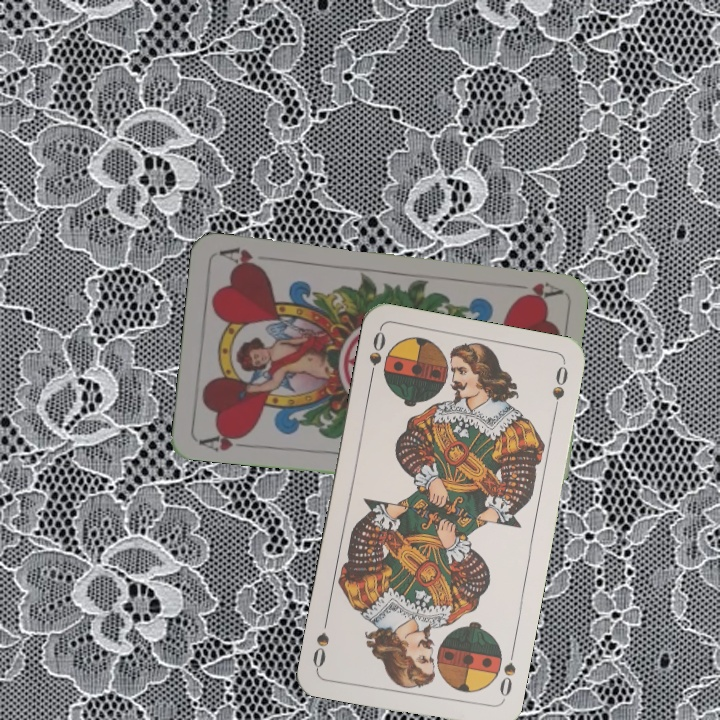HA: (195, 427, 254, 454), (503, 278, 562, 301)
SO: (365, 327, 388, 386), (495, 658, 518, 705)
